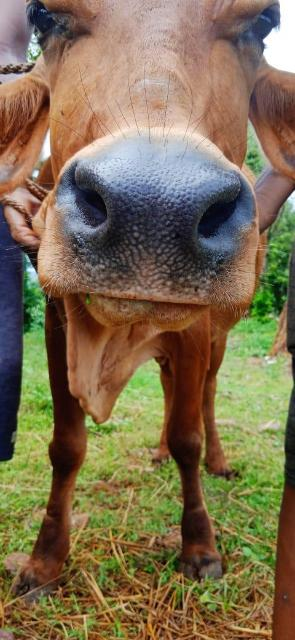Muzzle: (76, 160, 219, 294)
